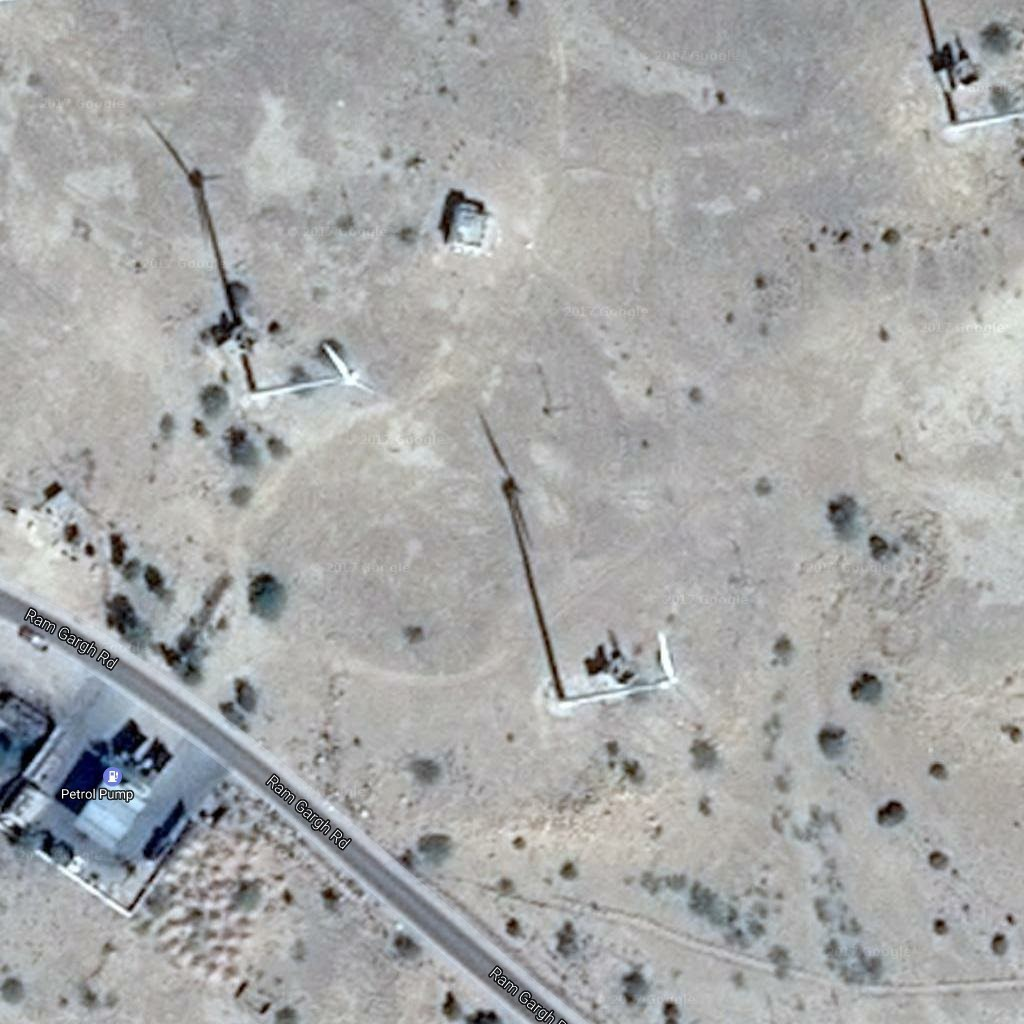Windmill: (133, 117, 269, 386)
